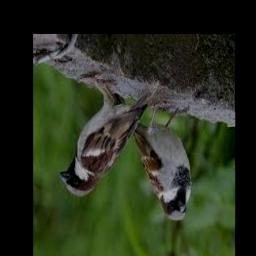Sparrow: (59, 78, 161, 197), (111, 94, 191, 221)
